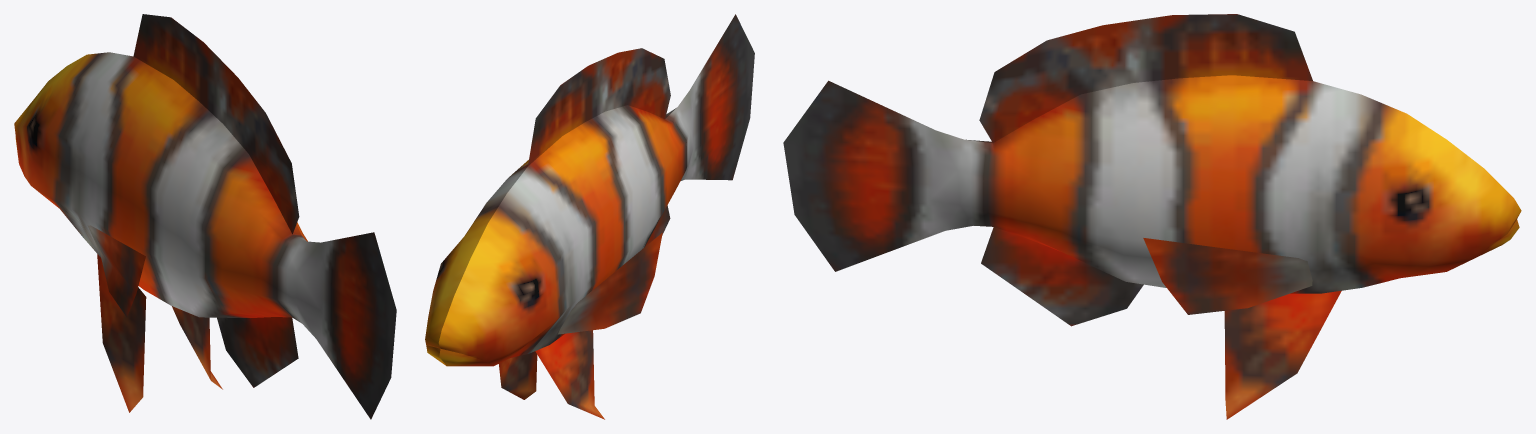
The model's file is pezPayaso.fbx.
3 views of the same model, side by side, from view 1: azimuth 30°, elevation 25°; view 2: azimuth 150°, elevation 25°; view 3: azimuth 270°, elevation 25° (orthographic). The views are drawn at different scales.
Parts seen in each view (by area): view 1: s4studio_mesh_0; view 2: s4studio_mesh_0; view 3: s4studio_mesh_0.
Part boxes in pixels (x1,y1,x2,y2): s4studio_mesh_0: [14, 14, 396, 419]; s4studio_mesh_0: [425, 14, 754, 419]; s4studio_mesh_0: [783, 14, 1521, 419].
Size of the model in its own units: 5.4 by 13.65 by 23.86.
1 material, 1 textured.
